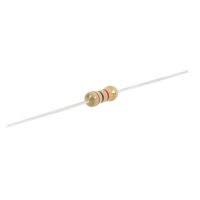resistor: (77, 80, 129, 118)
